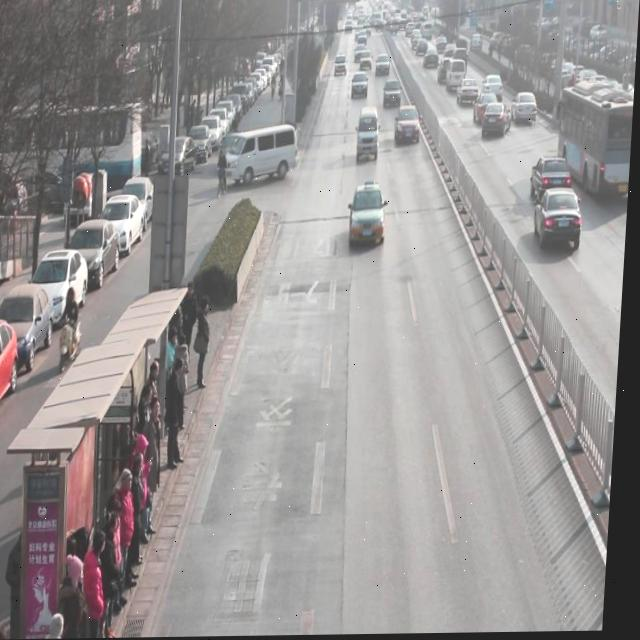car: (536, 190, 586, 254), (350, 187, 391, 248), (531, 156, 576, 210), (395, 107, 423, 147), (483, 103, 514, 139), (512, 94, 540, 128), (474, 95, 501, 126), (457, 79, 481, 108), (482, 76, 506, 104), (437, 57, 458, 88), (384, 80, 404, 110), (352, 72, 370, 100)
truck: (227, 125, 301, 187), (357, 105, 382, 163), (447, 61, 467, 93)
van: (556, 80, 636, 199)
